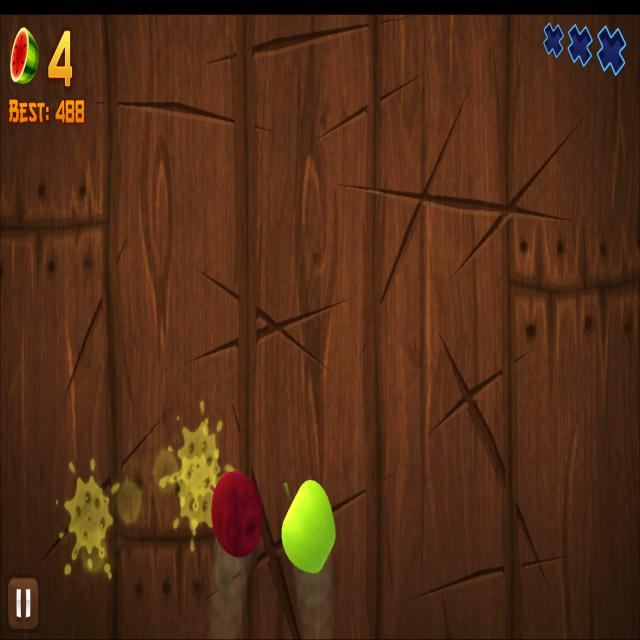fruit: (280, 478, 337, 576), (210, 468, 264, 559)
